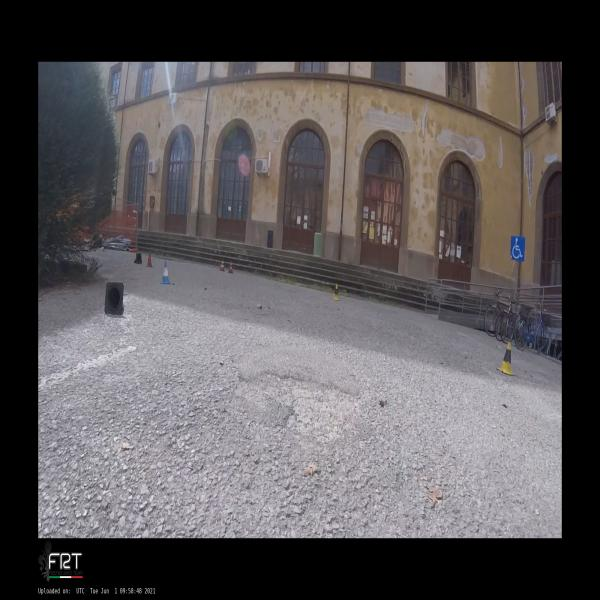blue_cone: (160, 261, 170, 284)
large_orange_cone: (228, 260, 234, 274), (220, 259, 225, 271)
unknown_cone: (105, 282, 124, 314), (145, 252, 154, 267), (134, 253, 142, 264)
yellow_cone: (497, 342, 515, 375), (332, 283, 340, 300)
